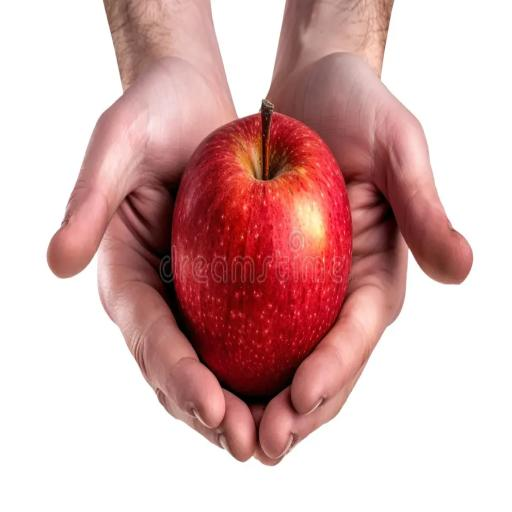apple: (172, 100, 352, 395)
